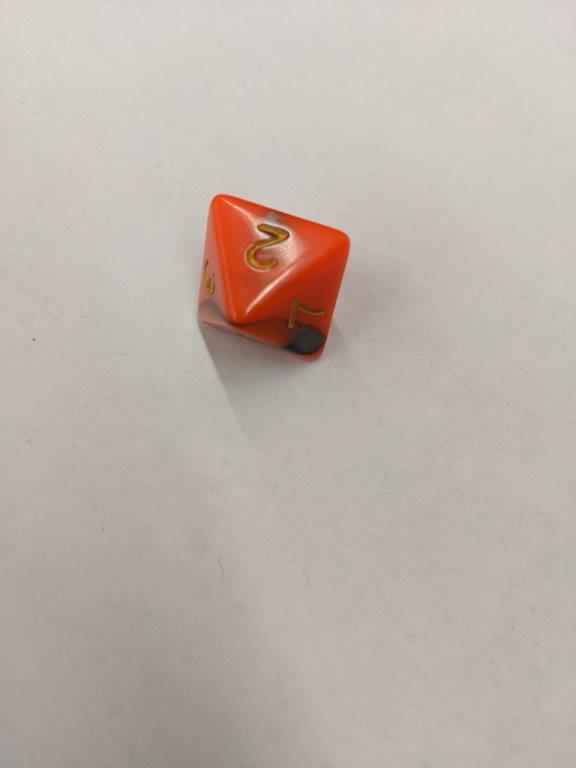d8-2: (192, 192, 353, 363)
